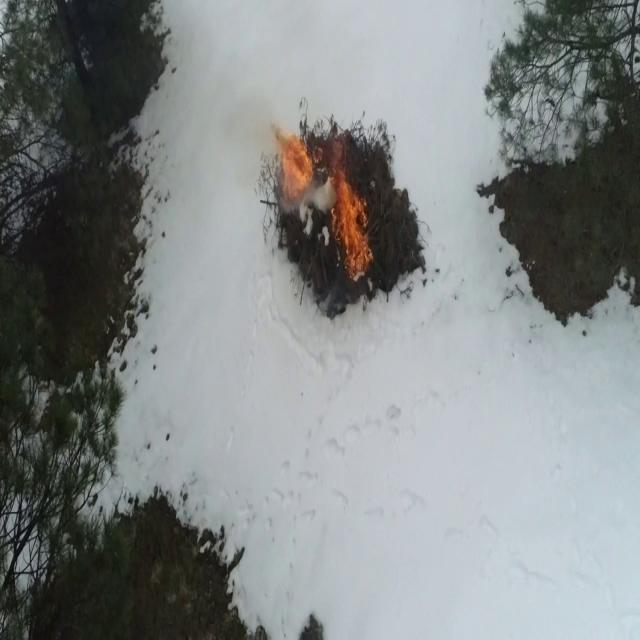fire: (334, 170, 373, 272), (275, 130, 313, 202)
